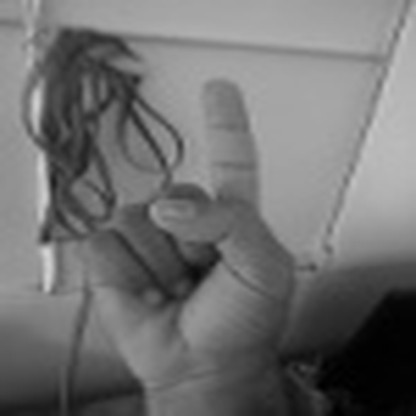d: (74, 74, 311, 379)
